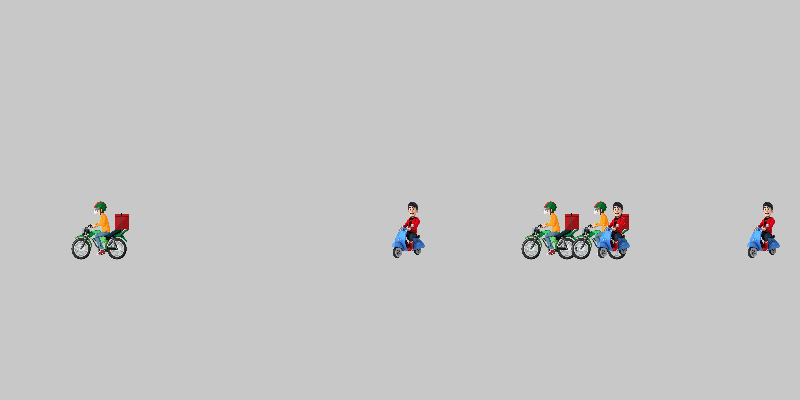helmet: (70, 200, 130, 260), (520, 200, 580, 260), (570, 200, 630, 260)
no_helmet: (380, 200, 440, 260), (585, 200, 645, 260), (735, 200, 795, 260)
